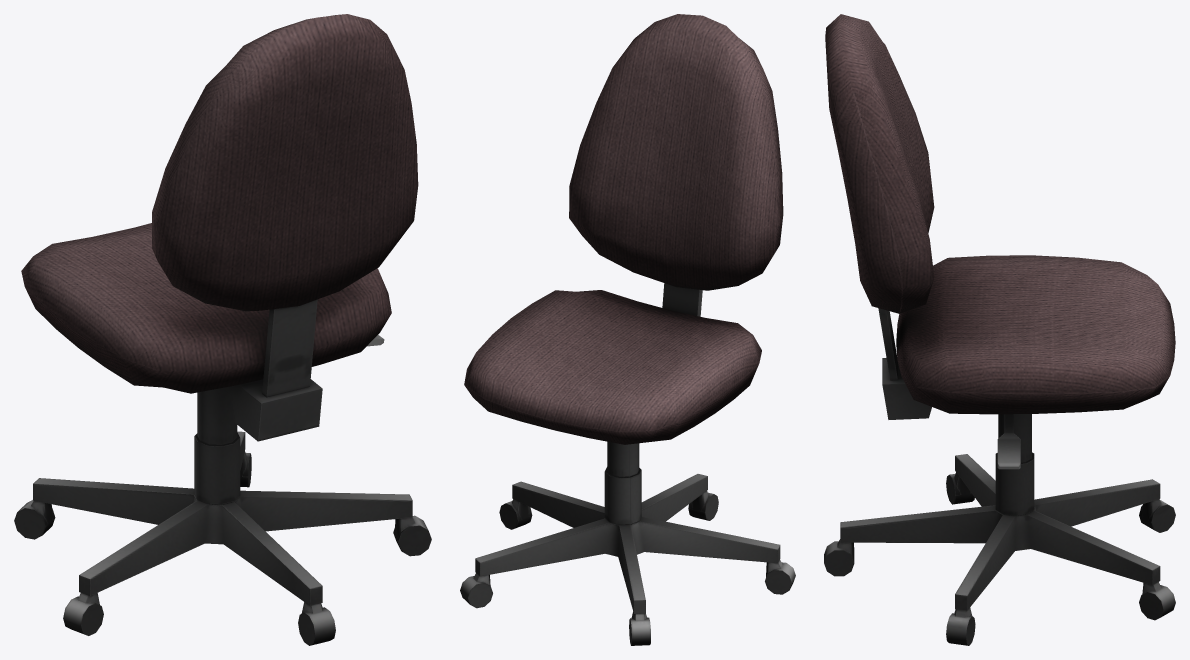
The model's file is office_chair.glb.
3 renders of one model, left to right at view 1: azimuth 30°, elevation 25°; view 2: azimuth 150°, elevation 25°; view 3: azimuth 270°, elevation 25°, orthographic. The views are drawn at different scales.
Parts seen in each view (by area): view 1: chair_model; view 2: chair_model; view 3: chair_model.
Boxes of the visible parts, x1=… form: chair_model: x1=14, y1=14, x2=431, y2=645; chair_model: x1=460, y1=14, x2=795, y2=645; chair_model: x1=824, y1=14, x2=1175, y2=645.
Bounding box in the file's own units: 0.7218 × 1.18 × 0.6865.
1 material, 1 textured.
